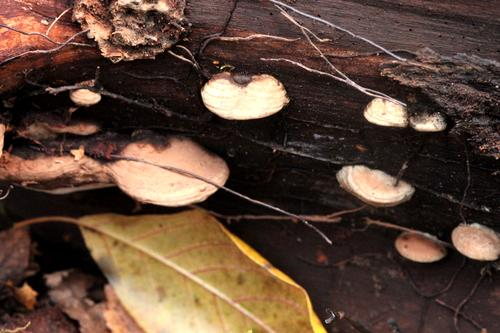Ganoderma - Fruit Body: (0, 124, 228, 204), (202, 70, 288, 123), (337, 162, 419, 207), (395, 227, 450, 271), (453, 220, 500, 262), (363, 95, 406, 132), (413, 104, 452, 133), (64, 87, 102, 108)
